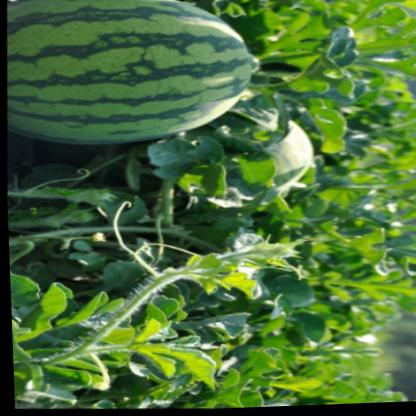--: (2, 0, 264, 158)
